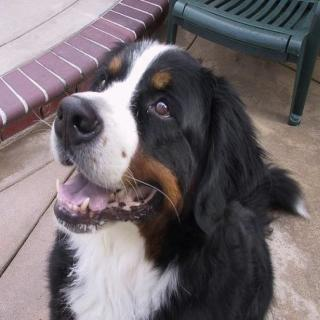dog: (34, 29, 248, 231)
nose: (52, 91, 102, 147)
